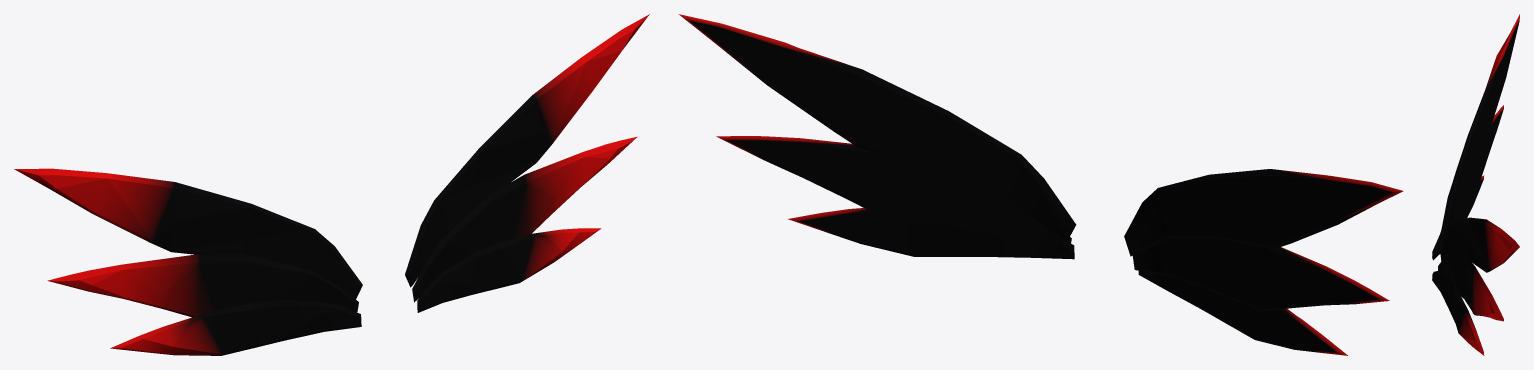
Rendered from chibang2.fbx.
The picture shows the model from 3 angles, left to right: view 1: azimuth 30°, elevation 25°; view 2: azimuth 150°, elevation 25°; view 3: azimuth 270°, elevation 25°; orthographic projection. The views are drawn at different scales.
Parts seen in each view (by area): view 1: Plane; view 2: Plane; view 3: Plane.
Boxes of the visible parts, <box> form: Plane: <box>14,14,649,355</box>; Plane: <box>678,14,1403,355</box>; Plane: <box>1432,14,1519,355</box>.
Bounding box in the file's own units: 1143 × 343 × 182.
